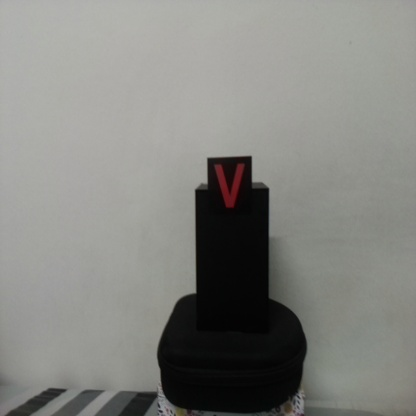id_11: (209, 157, 252, 216)
